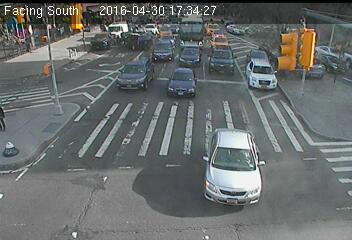neg: (43, 24, 77, 71), (84, 169, 117, 213), (17, 15, 39, 44), (34, 80, 54, 107), (297, 91, 317, 117), (124, 93, 143, 120), (267, 115, 286, 140), (177, 88, 195, 112), (33, 163, 51, 186), (225, 32, 242, 55), (240, 129, 257, 151), (95, 50, 110, 69), (164, 32, 178, 51), (171, 138, 183, 153), (71, 85, 82, 100), (74, 120, 84, 134), (226, 100, 236, 113), (289, 33, 299, 46), (228, 166, 238, 178), (317, 54, 326, 66), (256, 90, 264, 101), (217, 76, 225, 87), (169, 186, 176, 195)
